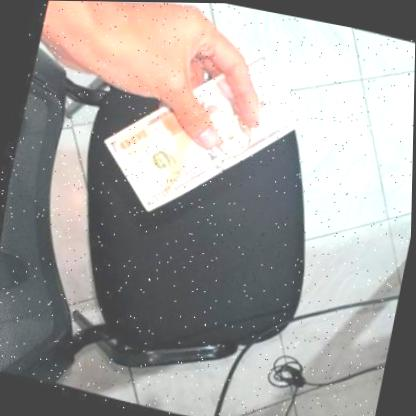dollar_front: (77, 6, 330, 250)
